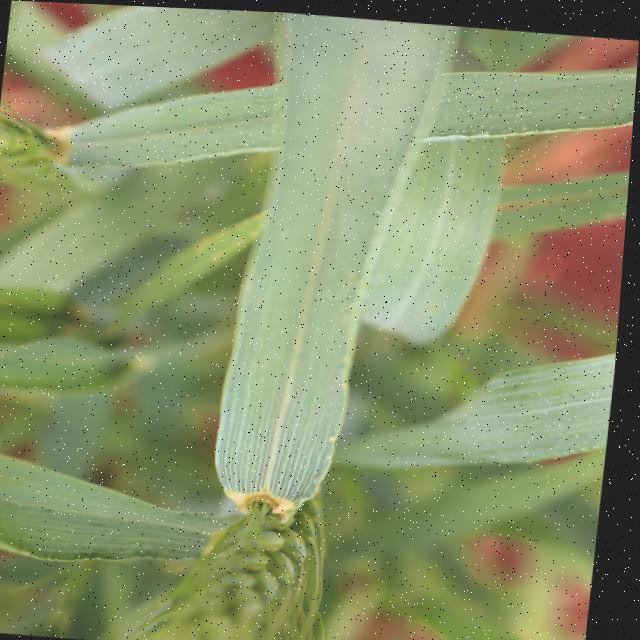healthy_wheat: (130, 6, 475, 640), (0, 0, 640, 204), (326, 320, 621, 524), (0, 424, 284, 593), (0, 164, 165, 435), (355, 118, 535, 341)
